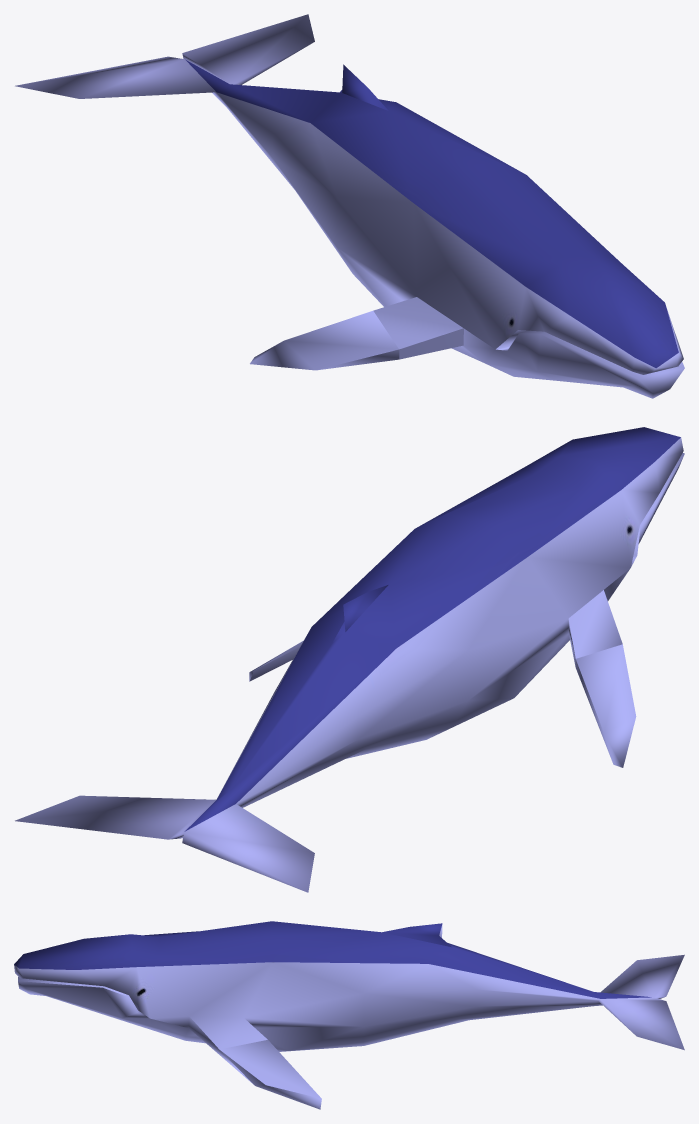
File: baleine_medium.obj
3 renders of one model, top to bottom at view 1: azimuth 30°, elevation 25°; view 2: azimuth 150°, elevation 25°; view 3: azimuth 270°, elevation 25°, orthographic. The views are drawn at different scales.
Parts seen in each view (by area): view 1: whaleSonic.001; view 2: whaleSonic.001; view 3: whaleSonic.001.
Boxes of the visible parts, left/top/right/bottom form: whaleSonic.001: left=15, top=14, right=684, bottom=398; whaleSonic.001: left=15, top=427, right=684, bottom=892; whaleSonic.001: left=14, top=921, right=684, bottom=1109.
Size of the model in its own units: 0.154 by 0.0746 by 0.3597.
